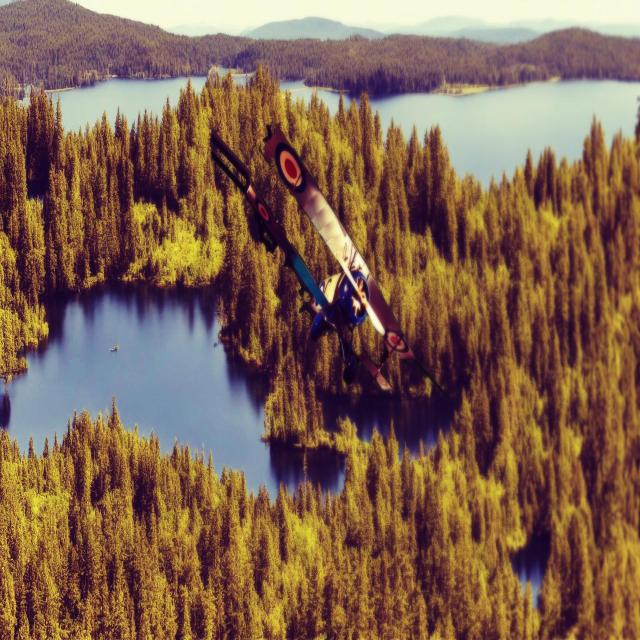airplane: (208, 121, 448, 399)
